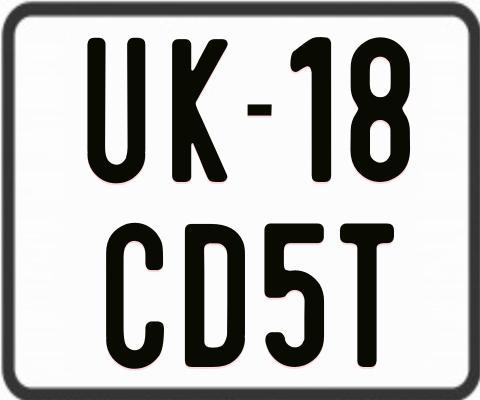1: (287, 35, 330, 185)
5: (261, 220, 325, 364)
8: (347, 34, 413, 180)
C: (106, 222, 170, 369)
D: (184, 221, 248, 364)
K: (171, 38, 228, 182)
T: (340, 223, 399, 371)
U: (86, 35, 147, 182)
